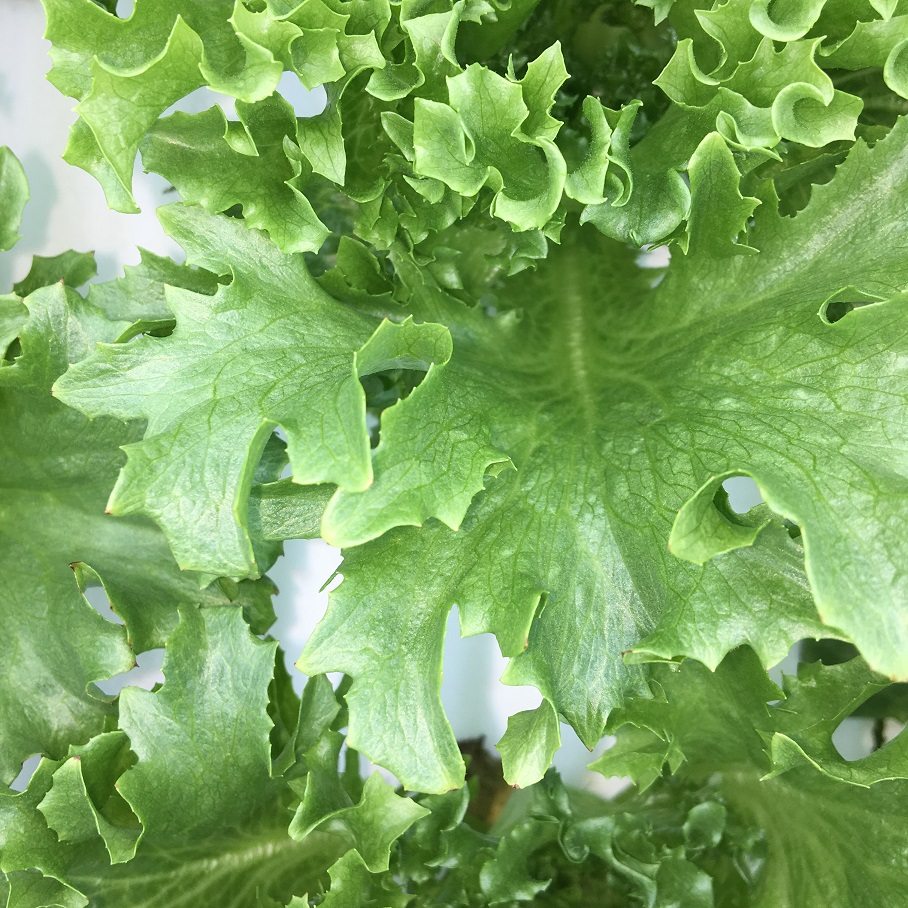tipburn: (804, 600, 847, 631), (875, 661, 908, 694), (77, 232, 110, 264), (45, 266, 78, 296), (355, 462, 388, 492), (282, 648, 311, 681), (58, 550, 88, 581), (655, 534, 690, 559), (612, 637, 641, 666), (314, 528, 343, 557), (93, 497, 120, 527), (437, 777, 472, 800), (61, 744, 89, 771), (115, 631, 144, 657), (122, 654, 149, 681), (512, 630, 538, 657), (576, 738, 602, 765), (99, 596, 123, 623), (503, 772, 528, 797), (30, 744, 55, 769), (168, 562, 190, 581), (108, 777, 126, 795), (493, 673, 509, 690)
